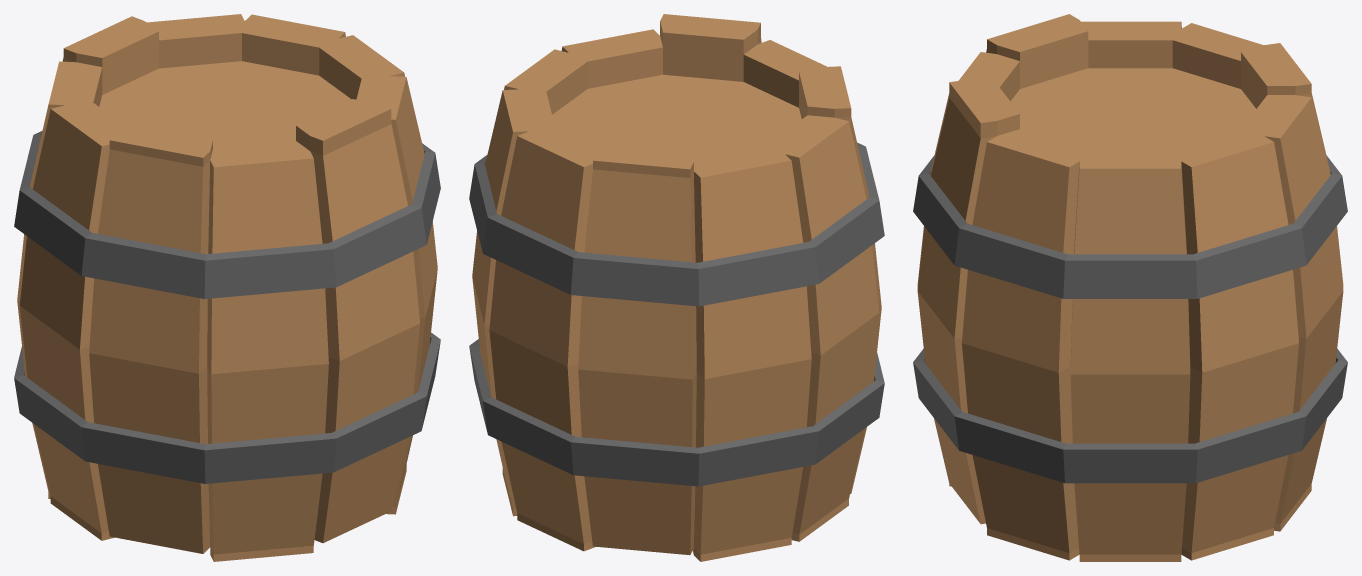
Rendered from Barril2.fbx.
The picture shows the model from 3 angles, left to right: view 1: azimuth 30°, elevation 25°; view 2: azimuth 150°, elevation 25°; view 3: azimuth 270°, elevation 25°; orthographic projection. The views are drawn at different scales.
Parts seen in each view (by area): view 1: barrel.001; view 2: barrel.001; view 3: barrel.001.
Part boxes in pixels (x1=…): barrel.001: x1=14, y1=14, x2=440, y2=561; barrel.001: x1=469, y1=14, x2=884, y2=561; barrel.001: x1=913, y1=14, x2=1347, y2=561.
Bounding box in the file's own units: 300 × 327 × 315.
